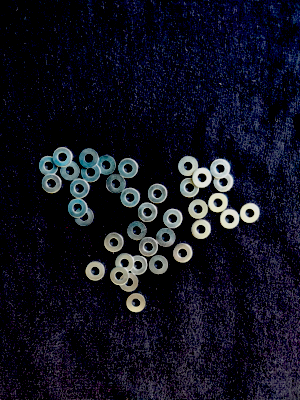circle: (172, 241, 194, 266), (240, 200, 261, 225), (52, 147, 74, 170), (80, 162, 102, 185), (39, 154, 60, 178), (124, 293, 148, 314), (104, 232, 126, 254), (105, 174, 127, 196), (147, 254, 169, 276), (66, 198, 89, 219), (97, 154, 118, 177), (126, 220, 149, 241), (179, 177, 202, 198), (138, 202, 159, 224), (137, 237, 159, 258), (191, 219, 212, 241), (178, 156, 200, 177), (192, 167, 213, 189), (211, 158, 232, 180), (219, 209, 240, 231), (85, 261, 106, 282), (74, 207, 95, 228), (59, 160, 80, 181), (118, 158, 139, 179), (163, 210, 184, 231), (69, 179, 91, 199), (187, 200, 209, 220), (120, 187, 140, 208), (148, 183, 168, 204), (109, 266, 129, 287), (113, 253, 133, 274), (129, 254, 149, 275), (155, 228, 176, 248), (214, 173, 235, 193), (209, 193, 229, 214), (119, 273, 139, 293), (42, 173, 61, 194), (80, 148, 99, 168)
